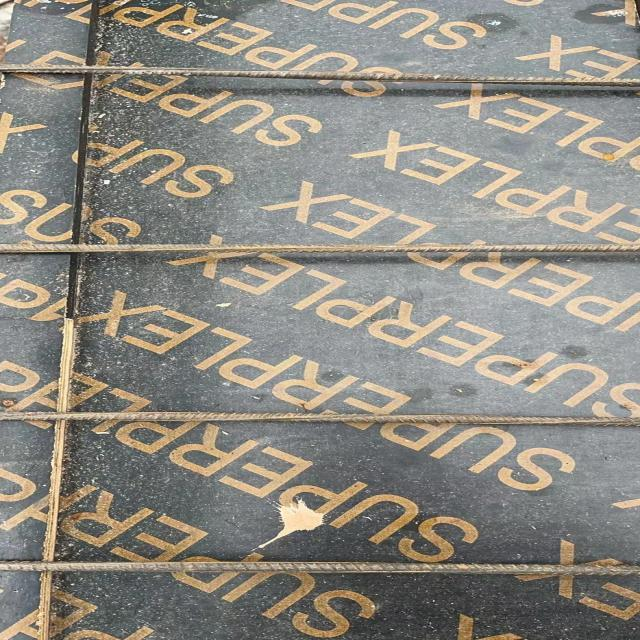ribbed bar: (0, 63, 639, 87), (0, 410, 639, 427), (0, 561, 639, 575), (0, 243, 639, 254)
